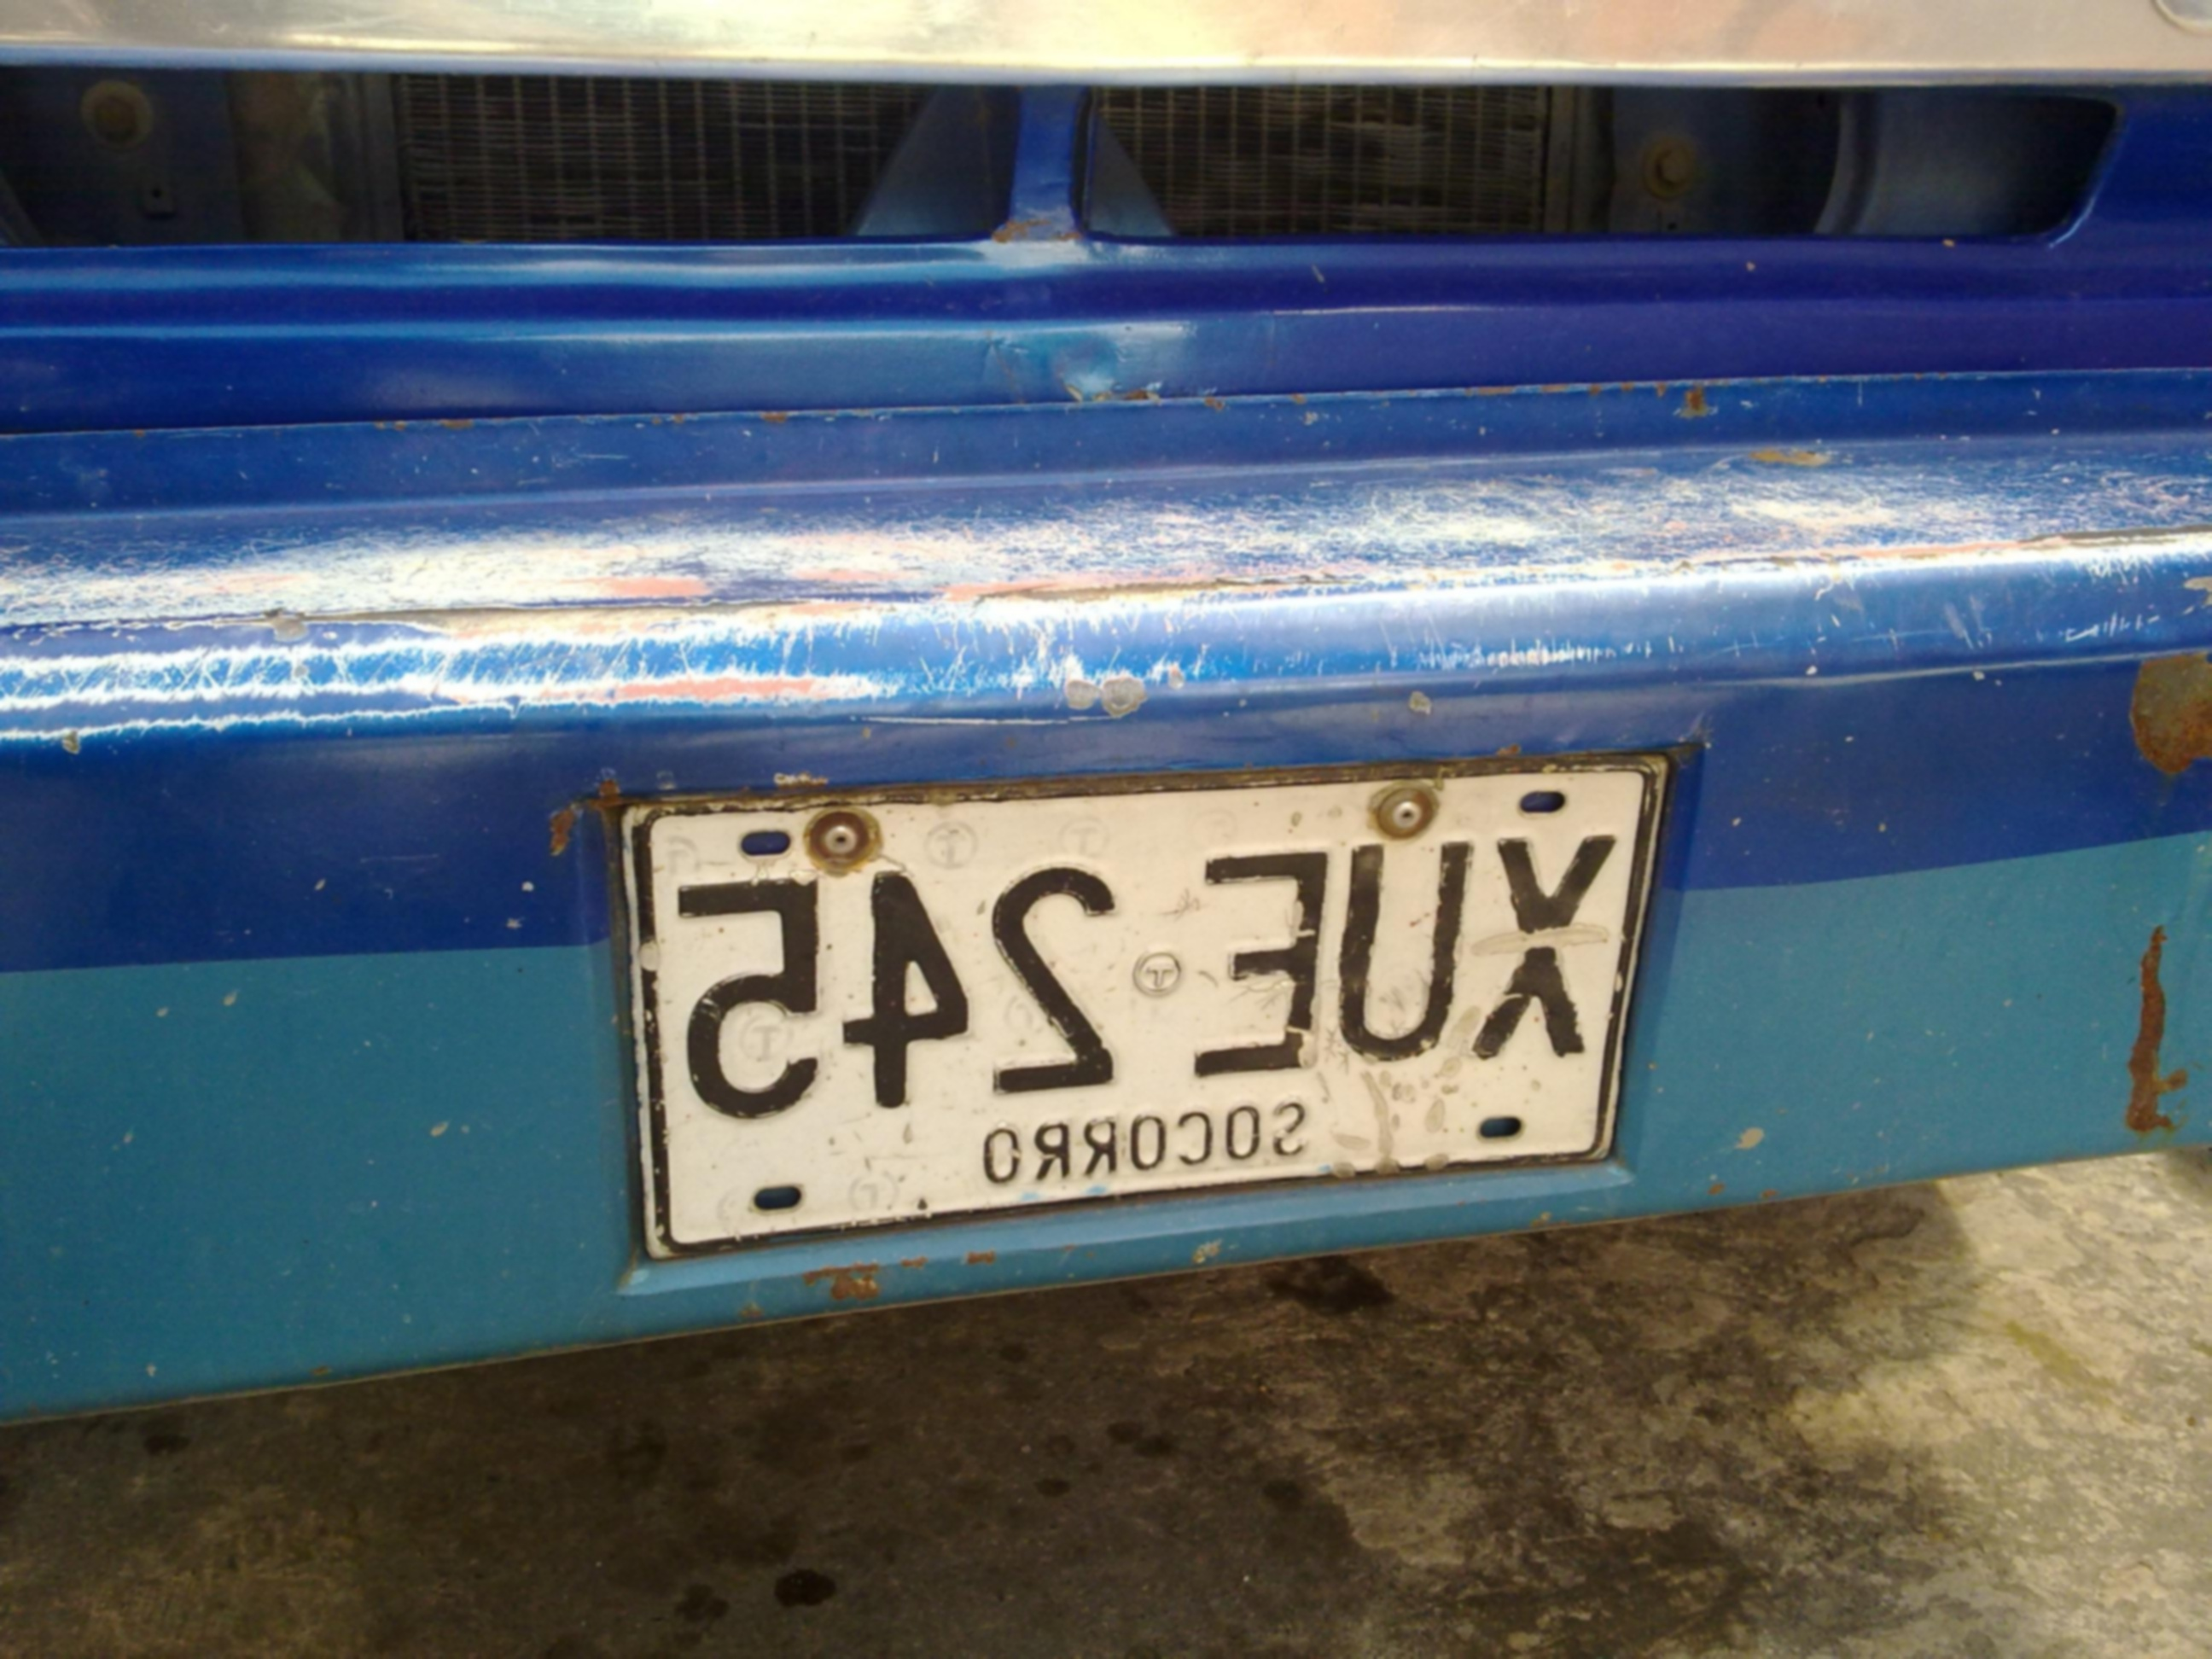placas: (614, 741, 1680, 1268)
